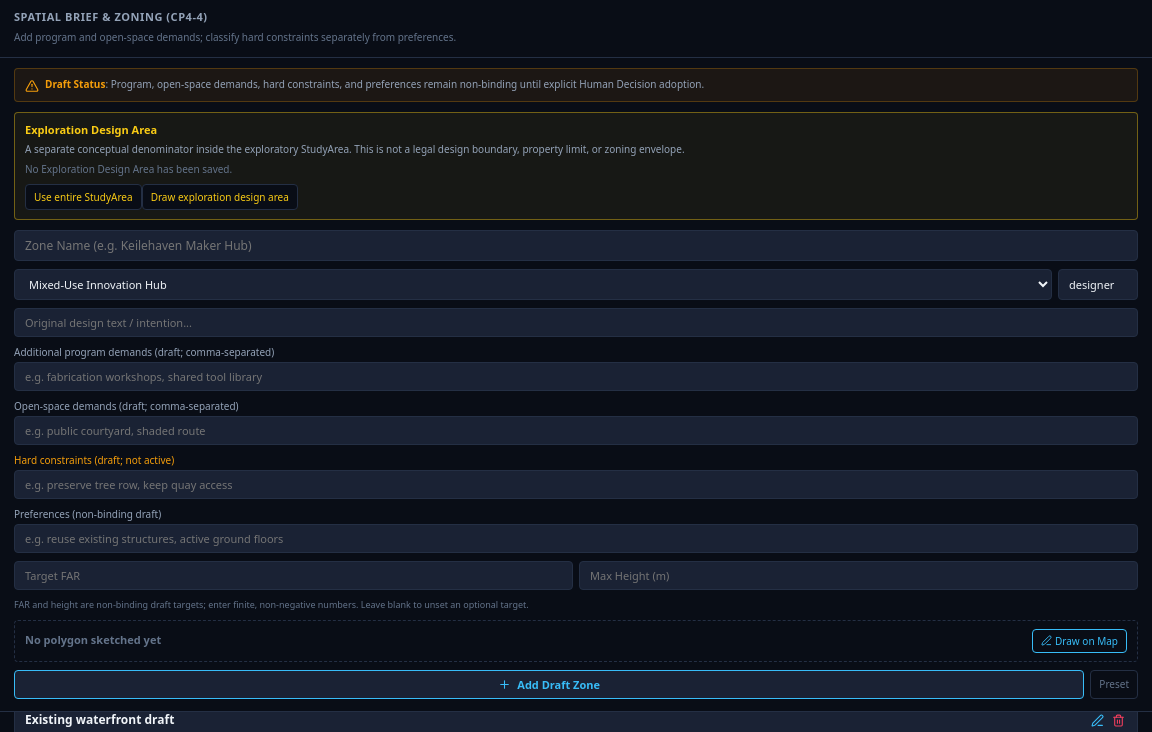
Test: SidebarBrief StudyArea scope › cancels editing a saved zone without changing the zone or adding a new one
The image size is (1152, 732).
(page scrolled)
Click the button named "edit zone": [1098, 722] box [1089, 710, 1106, 731]
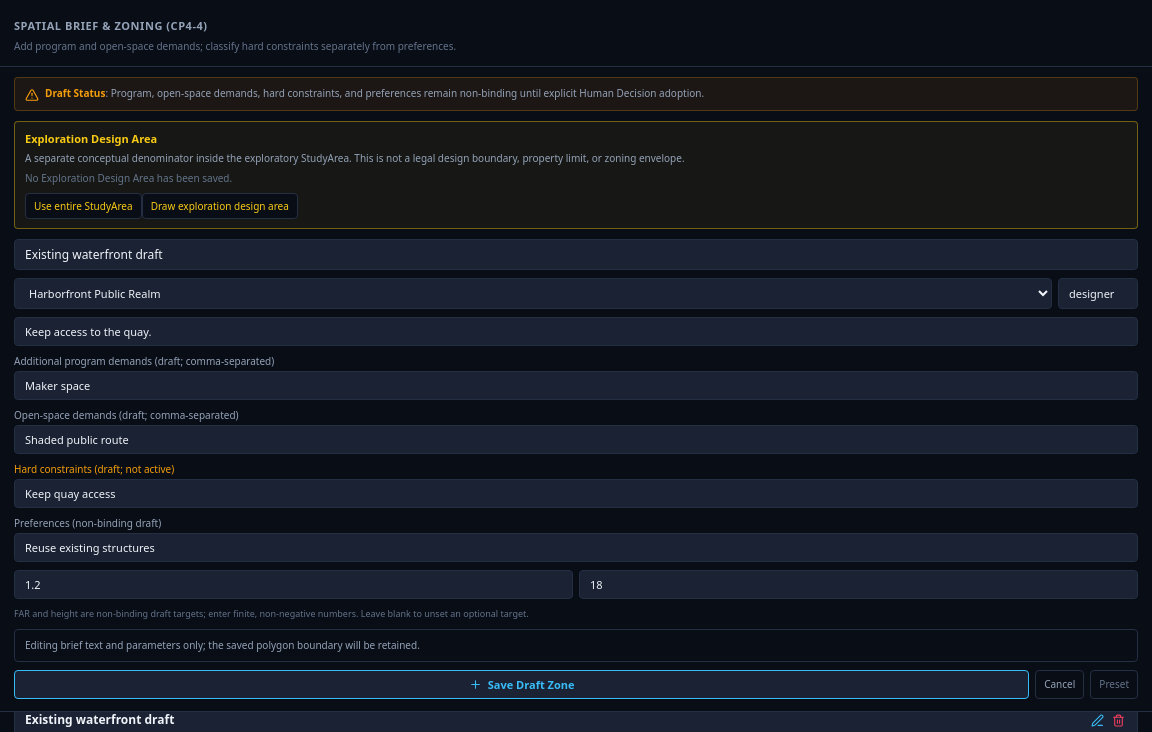
Replace the text in the 1st field with placeholder "Zone Name (e.g. Keilehaven Maker Hub)" with "Unsaved change": [576, 254] box [14, 239, 1138, 270]
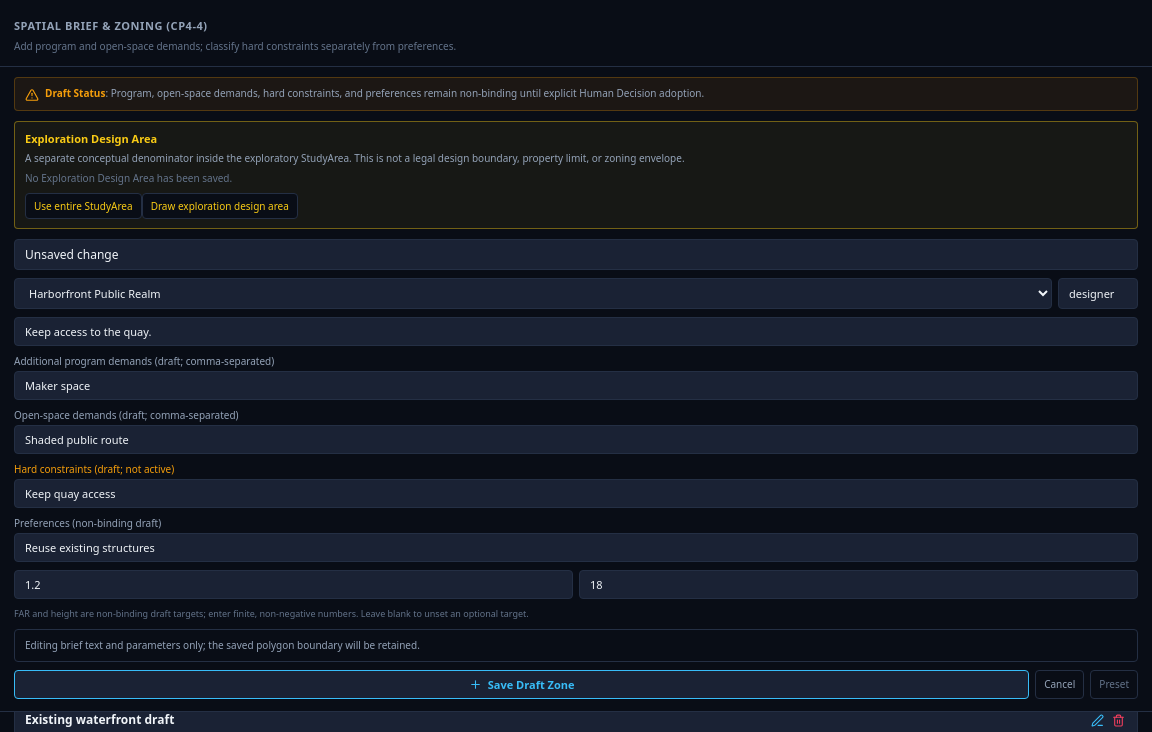
Click the button with aria-label "cancel edit": [1060, 684] box [1035, 670, 1084, 698]
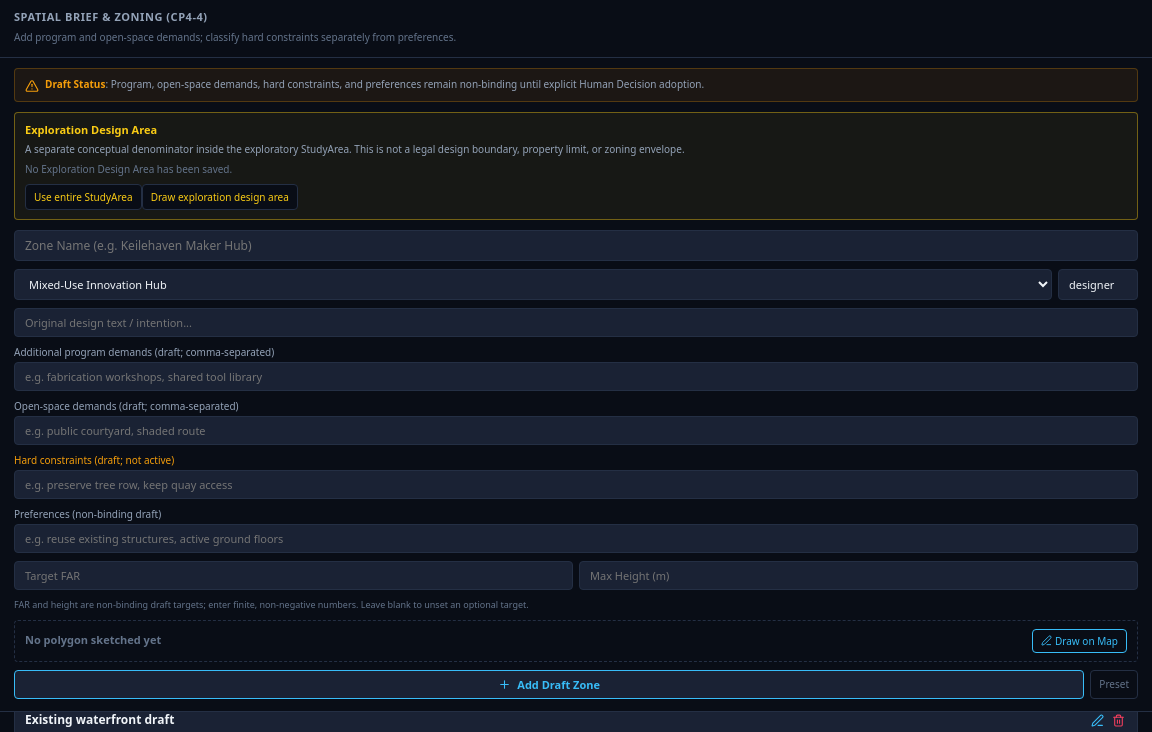
Check: the field with placeholder "Zone Name (e.g. Keilehaven Maker Hub)" is empty, box [14, 230, 1138, 261]
Check: the button "Add Draft Zone" is shown, box [14, 670, 1084, 698]
